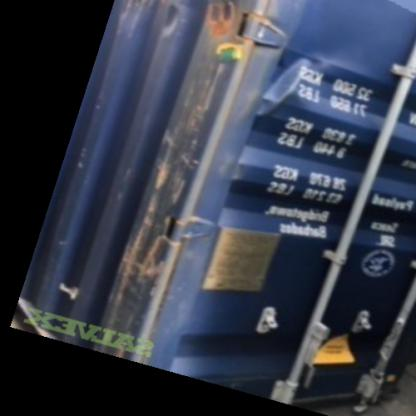Damage: (116, 133, 244, 330), (158, 4, 265, 50), (51, 276, 80, 306)
